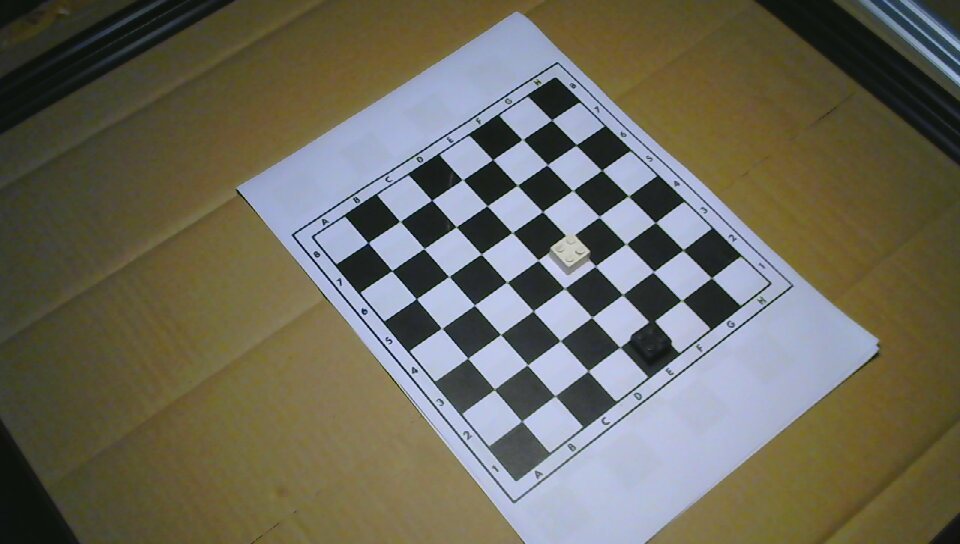bp: (631, 321, 673, 364)
wp: (549, 233, 590, 276)
